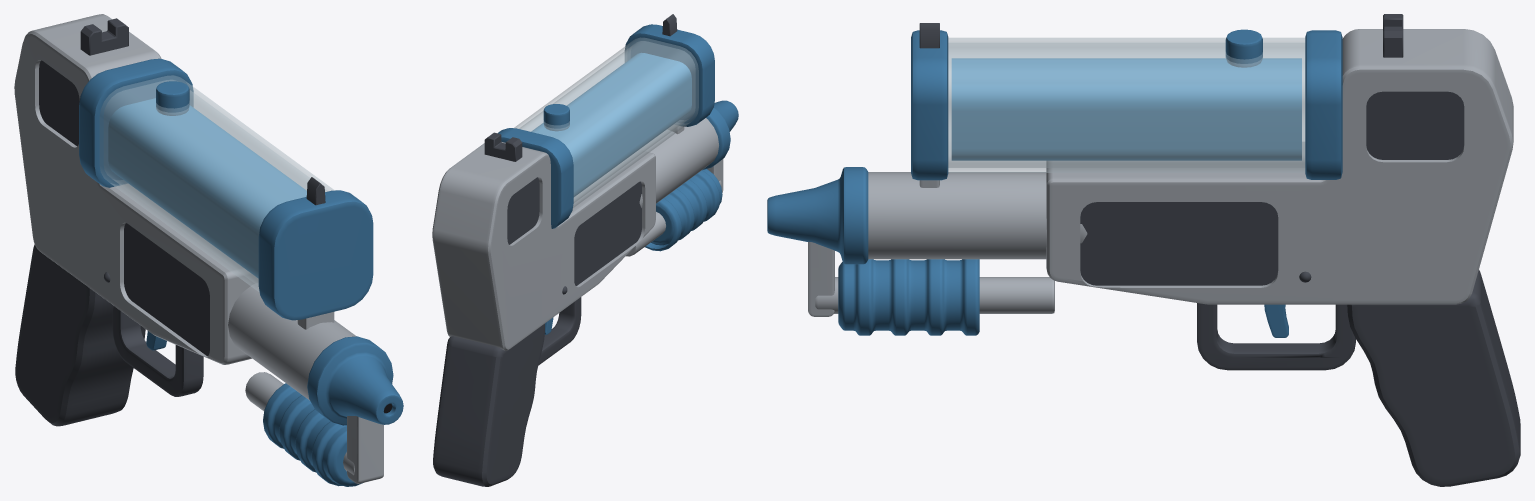
File: w_water.glb
3 views of the same model, side by side, from view 1: azimuth 30°, elevation 25°; view 2: azimuth 150°, elevation 25°; view 3: azimuth 270°, elevation 25° (orthographic). The views are drawn at different scales.
Parts seen in each view (by area): view 1: body_wzA__body__pa7adb5, tank_wzN__glass__gd3e4ee47, tank_wzB__accent__p3f78a3, water_wzN__water__p4a98cc, grip_wzB__frame__p444851, body_wzN__frame__p444851, nozzle_wzN__accent__p3f78a3, pump_wzB__accent__p3f78a3, guard_wzB__frame__p444851, sight_wzN__frame__p444851; view 2: body_wzA__body__pa7adb5, tank_wzN__glass__gd3e4ee47, grip_wzB__frame__p444851, water_wzN__water__p4a98cc, tank_wzB__accent__p3f78a3, body_wzN__frame__p444851, pump_wzB__accent__p3f78a3, guard_wzB__frame__p444851, nozzle_wzN__accent__p3f78a3, sight_wzN__frame__p444851; view 3: body_wzA__body__pa7adb5, tank_wzN__glass__gd3e4ee47, water_wzN__water__p4a98cc, grip_wzB__frame__p444851, body_wzN__frame__p444851, tank_wzB__accent__p3f78a3, pump_wzB__accent__p3f78a3, nozzle_wzN__accent__p3f78a3, guard_wzB__frame__p444851, sight_wzN__frame__p444851.
Boxes of the visible parts, x1,y1,x2,y2 form: body_wzA__body__pa7adb5: [14, 14, 383, 483]; tank_wzN__glass__gd3e4ee47: [100, 75, 334, 292]; tank_wzB__accent__p3f78a3: [79, 58, 373, 320]; water_wzN__water__p4a98cc: [108, 98, 306, 278]; grip_wzB__frame__p444851: [15, 244, 145, 426]; body_wzN__frame__p444851: [39, 60, 209, 356]; nozzle_wzN__accent__p3f78a3: [307, 336, 403, 425]; pump_wzB__accent__p3f78a3: [263, 383, 362, 486]; guard_wzB__frame__p444851: [112, 306, 203, 396]; sight_wzN__frame__p444851: [80, 18, 325, 205]; body_wzA__body__pa7adb5: [432, 118, 723, 350]; tank_wzN__glass__gd3e4ee47: [514, 37, 698, 207]; grip_wzB__frame__p444851: [433, 323, 544, 486]; water_wzN__water__p4a98cc: [531, 53, 691, 196]; tank_wzB__accent__p3f78a3: [498, 24, 714, 228]; body_wzN__frame__p444851: [507, 177, 641, 294]; pump_wzB__accent__p3f78a3: [645, 169, 722, 251]; guard_wzB__frame__p444851: [538, 297, 581, 365]; nozzle_wzN__accent__p3f78a3: [702, 100, 738, 170]; sight_wzN__frame__p444851: [484, 14, 677, 161]; body_wzA__body__pa7adb5: [808, 29, 1513, 316]; tank_wzN__glass__gd3e4ee47: [948, 37, 1305, 172]; water_wzN__water__p4a98cc: [951, 58, 1301, 160]; grip_wzB__frame__p444851: [1346, 270, 1520, 486]; body_wzN__frame__p444851: [1080, 91, 1464, 285]; tank_wzB__accent__p3f78a3: [911, 29, 1342, 180]; pump_wzB__accent__p3f78a3: [838, 259, 979, 335]; nozzle_wzN__accent__p3f78a3: [767, 167, 868, 264]; guard_wzB__frame__p444851: [1197, 303, 1355, 370]; sight_wzN__frame__p444851: [919, 14, 1403, 57].
Size of the model in its own units: 0.076 by 0.2928 by 0.4453.
